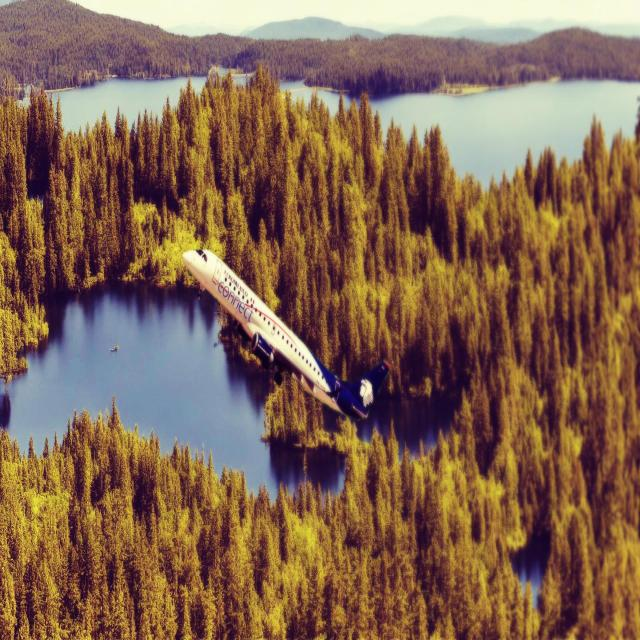airplane: (182, 247, 390, 422)
